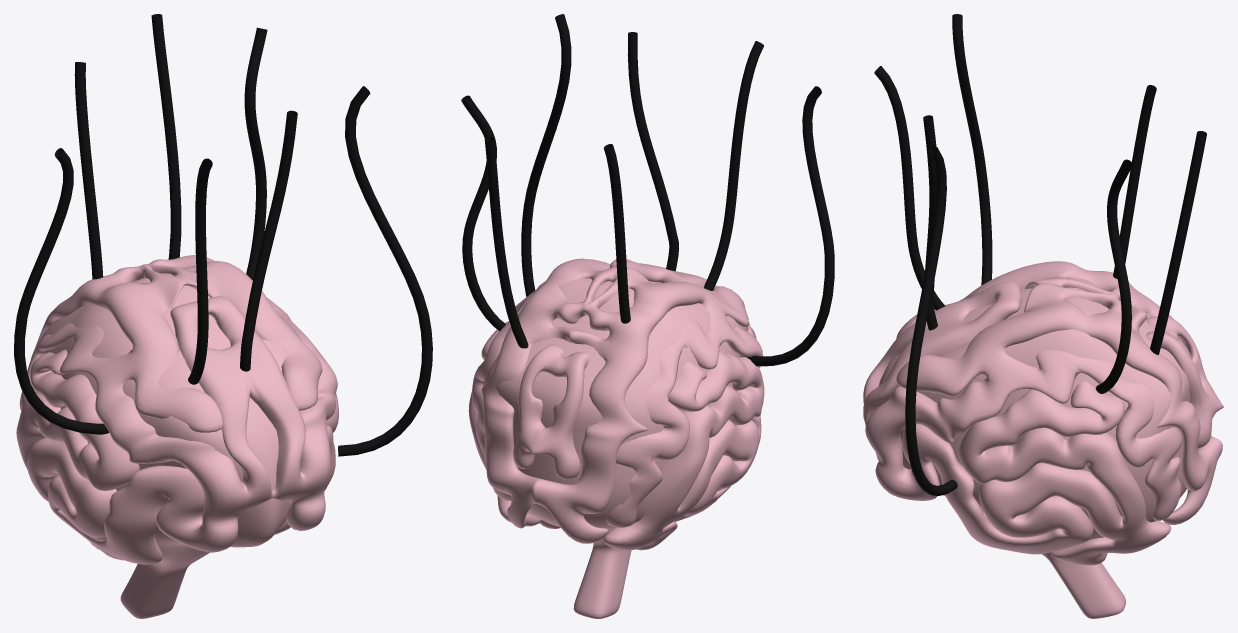
The model's file is brain.fbx.
3 views of the same model, side by side, from view 1: azimuth 30°, elevation 25°; view 2: azimuth 150°, elevation 25°; view 3: azimuth 270°, elevation 25° (orthographic). The views are drawn at different scales.
Parts seen in each view (by area): view 1: cerveau, BezierCurve.025, BezierCurve.024, BezierCurve.020, BezierCurve.012, BezierCurve.011, BezierCurve.023, BezierCurve.010, BezierCurve.004, BezierCurve.026, BezierCurve.003, BezierCurve.022 (+10 smaller); view 2: cerveau, BezierCurve.012, BezierCurve.011, BezierCurve.024, BezierCurve.020, BezierCurve.010, BezierCurve.029, BezierCurve.022, BezierCurve.015, BezierCurve.023, BezierCurve.017, BezierCurve.028 (+12 smaller); view 3: cerveau, BezierCurve.024, BezierCurve.012, BezierCurve.025, BezierCurve.023, BezierCurve.010, BezierCurve.011, BezierCurve.004, BezierCurve.028, BezierCurve.029, BezierCurve.003, BezierCurve.015 (+9 smaller).
Boxes of the visible parts, x1,y1,x2,y2 form: cerveau: [16, 255, 338, 618]; BezierCurve.025: [338, 348, 432, 456]; BezierCurve.024: [386, 235, 432, 350]; BezierCurve.020: [242, 239, 273, 343]; BezierCurve.012: [14, 316, 45, 413]; BezierCurve.011: [17, 226, 60, 319]; BezierCurve.023: [349, 155, 394, 240]; BezierCurve.010: [51, 148, 73, 230]; BezierCurve.004: [164, 129, 181, 210]; BezierCurve.026: [244, 27, 267, 105]; BezierCurve.003: [155, 54, 175, 130]; BezierCurve.022: [345, 86, 370, 157]; cerveau: [468, 258, 764, 618]; BezierCurve.012: [801, 257, 834, 350]; BezierCurve.011: [807, 164, 834, 258]; BezierCurve.024: [521, 144, 549, 237]; BezierCurve.020: [645, 153, 678, 244]; BezierCurve.010: [802, 86, 821, 166]; BezierCurve.029: [463, 262, 505, 331]; BezierCurve.022: [555, 14, 571, 83]; BezierCurve.015: [730, 97, 748, 164]; BezierCurve.023: [541, 81, 568, 148]; BezierCurve.017: [704, 225, 732, 290]; BezierCurve.028: [462, 198, 483, 263]; cerveau: [863, 261, 1223, 618]; BezierCurve.024: [905, 298, 930, 419]; BezierCurve.012: [975, 161, 992, 265]; BezierCurve.025: [905, 418, 957, 495]; BezierCurve.023: [920, 208, 945, 299]; BezierCurve.010: [952, 14, 970, 93]; BezierCurve.011: [961, 90, 984, 163]; BezierCurve.004: [1161, 233, 1186, 304]; BezierCurve.028: [1114, 262, 1131, 332]; BezierCurve.029: [1095, 330, 1131, 393]; BezierCurve.003: [1176, 166, 1200, 235]; BezierCurve.015: [896, 119, 913, 189].
Bounding box in the file's own units: 559 × 789 × 491.
